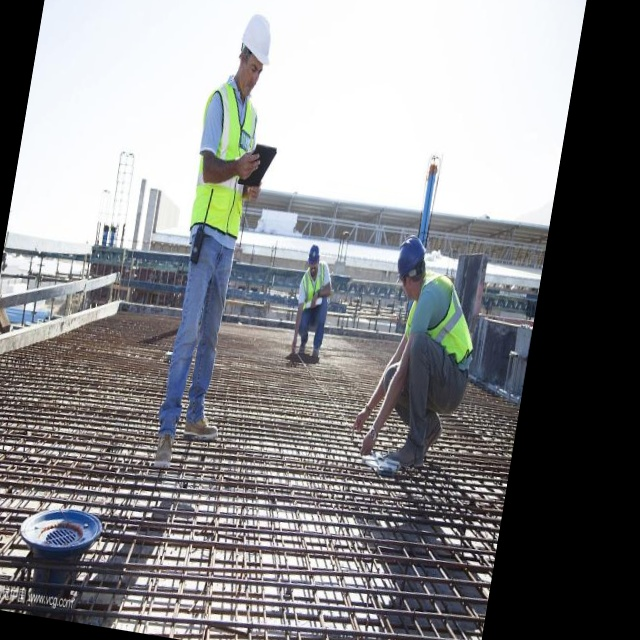Con_Casco: (235, 12, 278, 87), (305, 243, 323, 280)
Con_Chaleco: (186, 82, 264, 244), (402, 270, 487, 371)
